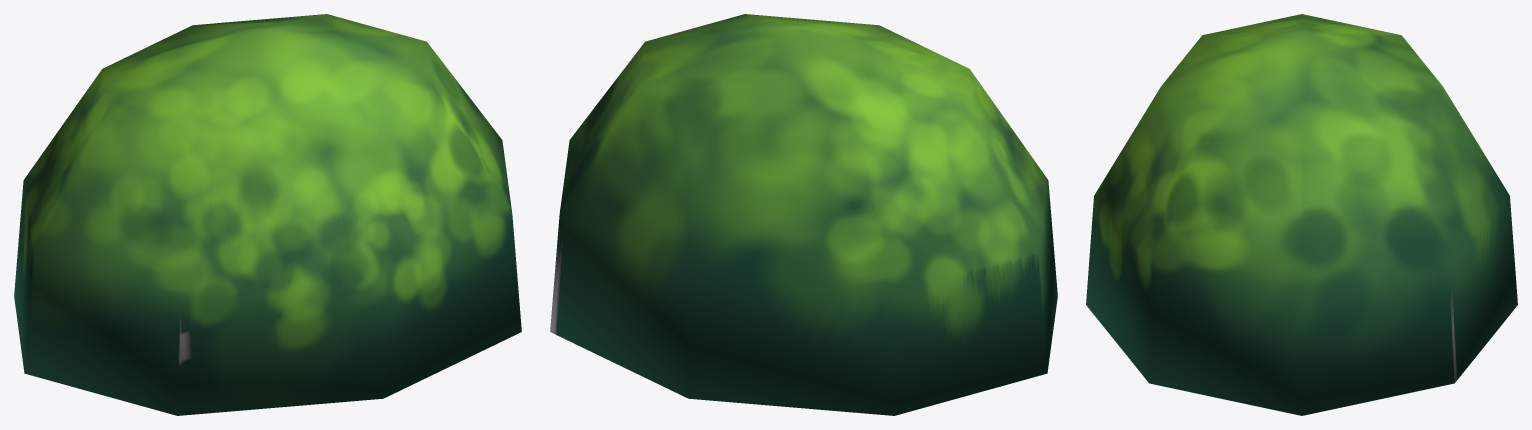
File: bush2.fbx
3 renders of one model, left to right at view 1: azimuth 30°, elevation 25°; view 2: azimuth 150°, elevation 25°; view 3: azimuth 270°, elevation 25°, orthographic. The views are drawn at different scales.
Visible parts, largest first — view 1: bush.001; view 2: bush.001; view 3: bush.001.
Boxes of the visible parts, bbox=[...] form: bush.001: bbox=[14, 14, 521, 415]; bush.001: bbox=[550, 14, 1057, 415]; bush.001: bbox=[1086, 14, 1517, 415].
Size of the model in its own units: 291 by 162 by 239.
